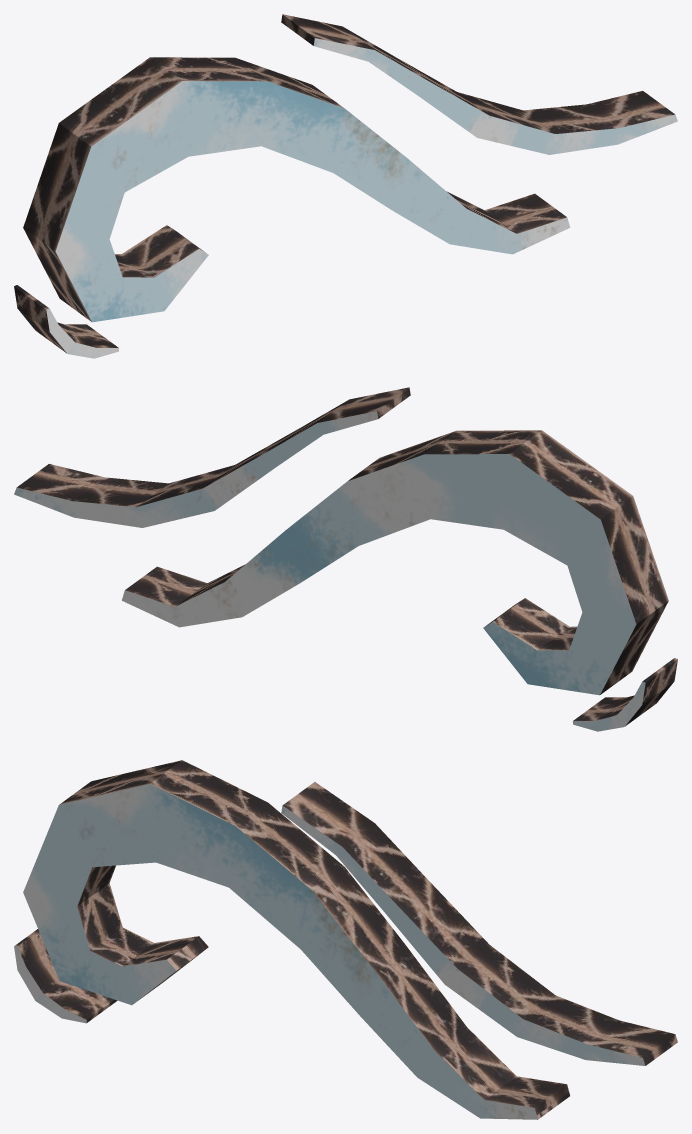
File: G_WindSwoosh.fbx
3 renders of one model, top to bottom at view 1: azimuth 30°, elevation 25°; view 2: azimuth 150°, elevation 25°; view 3: azimuth 330°, elevation 25°, orthographic.
Parts seen in each view (by area): view 1: WindsSwoosh; view 2: WindsSwoosh; view 3: WindsSwoosh.
Part boxes in pixels (left/top/right/bottom): WindsSwoosh: left=14, top=14, right=677, bottom=358; WindsSwoosh: left=14, top=387, right=677, bottom=731; WindsSwoosh: left=14, top=760, right=677, bottom=1119.
Bounding box in the file's own units: 3.48 × 1.41 × 0.3103.
